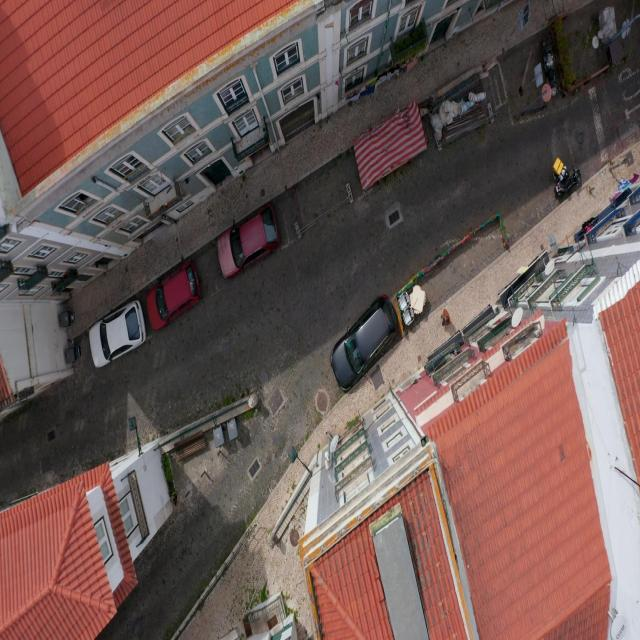Car: (330, 295, 396, 392), (217, 204, 279, 280), (146, 261, 201, 332), (89, 299, 146, 366)
Cycle: (548, 148, 586, 208)
